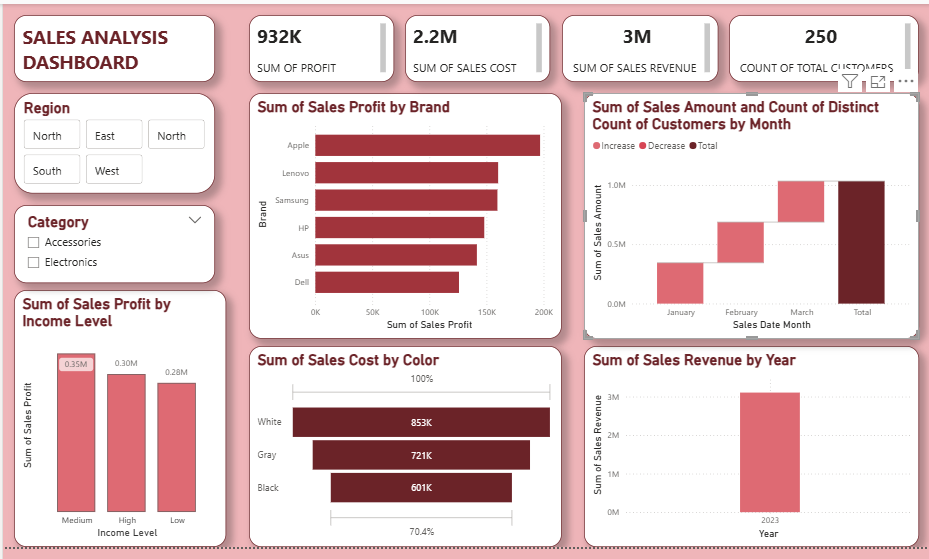

The dashboard page shown, as its layout file describes it:
{"tool":"powerbi","page":{"name":"Page 1","canvas":[1332,778],"ordinal":0},"visuals":[{"type":"barChart","fields":{"Category":["Products.Brand"],"Y":["Sum(Sales.Sales Profit)"]},"box":[352,128,448,352],"z":0},{"type":"lineStackedColumnComboChart","fields":{"Category":["Customers.Income Level"],"Y":["Sum(Sales.Sales Profit)"]},"box":[16,410,304,368],"z":1000},{"type":"lineClusteredColumnComboChart","fields":{"Category":["Sales.Sales Date.Variation.Date Hierarchy.Year"],"Y":["Sum(Sales.Sales  Revenue)"]},"box":[832,490,480,288],"z":2000},{"type":"waterfallChart","title":"Sum of Sales Amount and Count of Distinct Count of Customers  by Month","fields":{"Category":["Sales.Sales Date.Variation.Date Hierarchy.Month"],"Y":["Sum(Sales.Sales Amount)"]},"box":[832,128,480,352],"z":3000},{"type":"funnel","fields":{"Category":["Products.Color"],"Y":["Sum(Sales.Sales Cost)"]},"box":[352,490,448,288],"z":4000},{"type":"slicer","fields":{"Values":["Products.Category"]},"box":[16,288,288,112],"z":5000},{"type":"textbox","box":[576,16,208,96],"z":6000},{"type":"textbox","box":[352,16,208,96],"z":7000},{"type":"textbox","box":[800,16,224,96],"z":8000},{"type":"textbox","box":[1040,16,272,96],"z":9000},{"type":"textbox","box":[16,16,288,96],"z":10000},{"type":"advancedSlicerVisual","fields":{"Values":["Customers.Region"]},"box":[16,128,288,144],"z":11000}]}

Visuals, with their boxes in screenshot pixels (x1, y1, x2, y2), scaled from the page's 1332x778 canvas onto the 929x559 screenshot:
barChart - Products.Brand x Sum(Sales.Sales Profit): rect(246, 92, 558, 345)
lineStackedColumnComboChart - Customers.Income Level x Sum(Sales.Sales Profit): rect(11, 295, 223, 558)
lineClusteredColumnComboChart - Sales.Sales Date.Variation.Date Hierarchy.Year x Sum(Sales.Sales  Revenue): rect(580, 352, 915, 558)
"Sum of Sales Amount and Count of Distinct Count of Customers  by Month" waterfallChart: rect(580, 92, 915, 345)
funnel - Products.Color x Sum(Sales.Sales Cost): rect(246, 352, 558, 558)
slicer - Products.Category: rect(11, 207, 212, 287)
textbox: rect(402, 11, 547, 80)
textbox: rect(246, 11, 391, 80)
textbox: rect(558, 11, 714, 80)
textbox: rect(725, 11, 915, 80)
textbox: rect(11, 11, 212, 80)
advancedSlicerVisual - Customers.Region: rect(11, 92, 212, 195)
